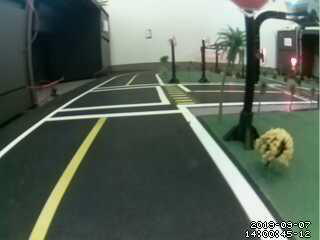Stop_Sign: (231, 1, 275, 14)
